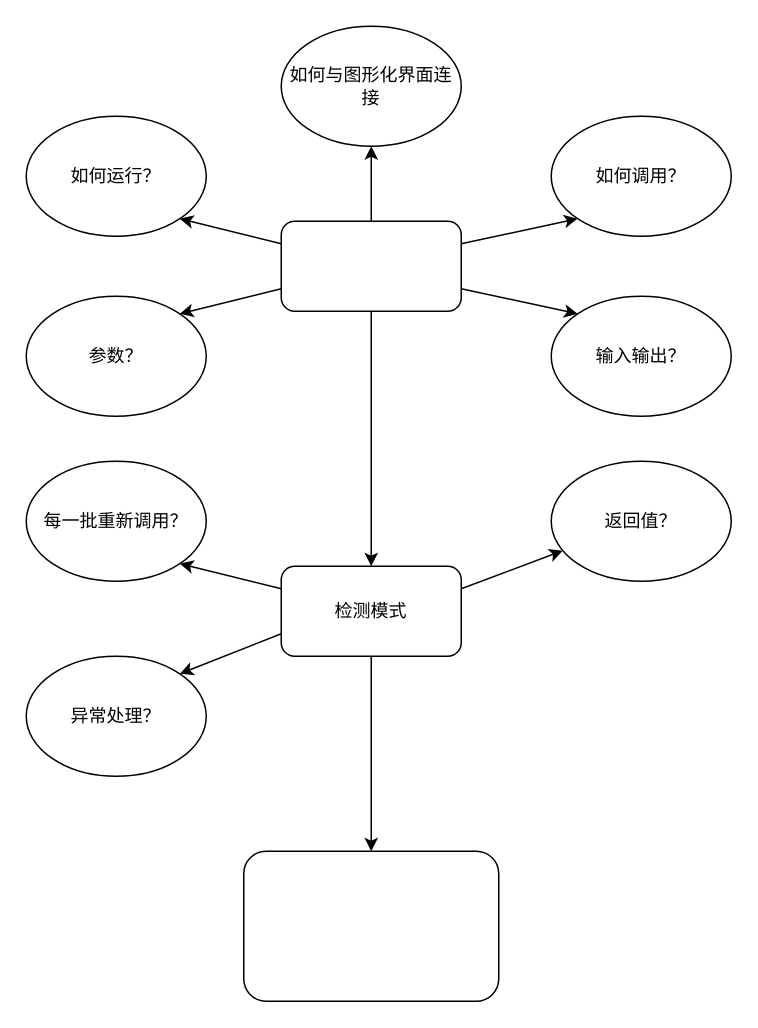
Image size: 758x1028. Some labels were removed from this diagram. The shapes that lost their labels are listed below. From the top down, each one's centre as x and y in pixels, then its label:
[370,265]: 运行环境
[370,925]: 如何确定每一个进程分别是在检测哪一个元件？
